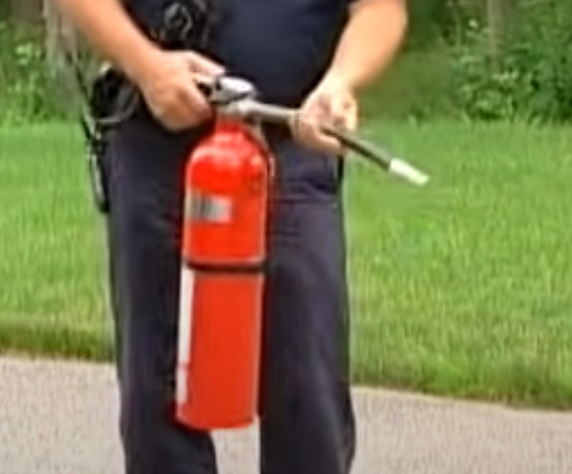fire_extinguisher: (173, 76, 275, 432)
